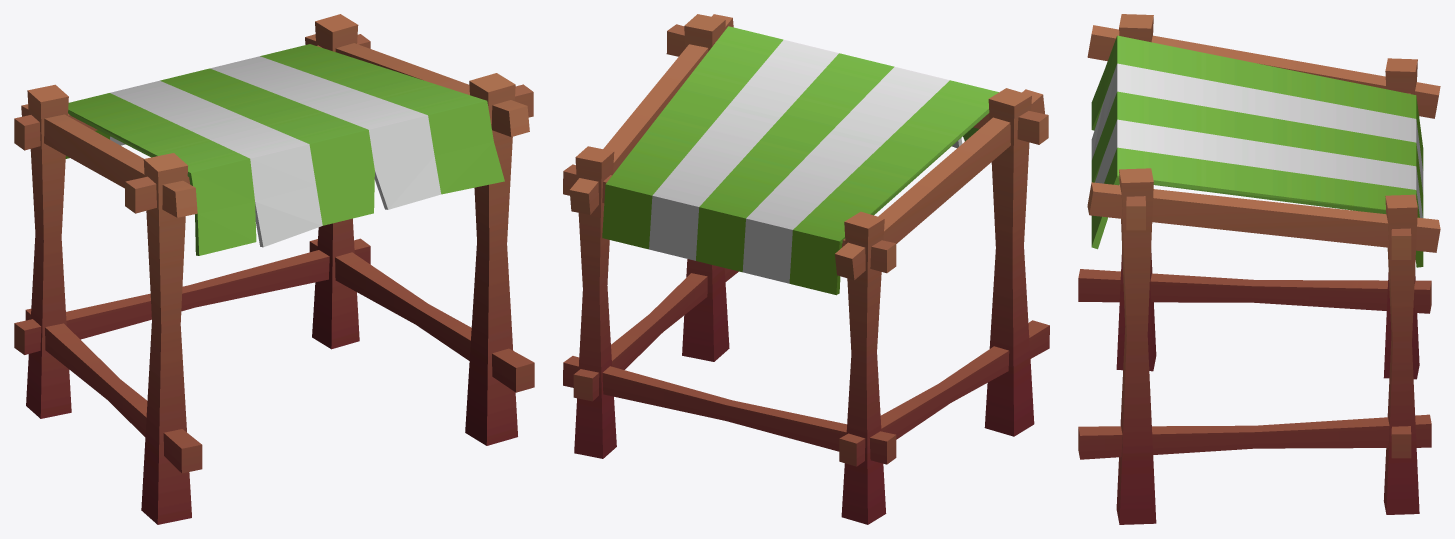
Rendered from tent_2.glb.
The picture shows the model from 3 angles, left to right: view 1: azimuth 30°, elevation 25°; view 2: azimuth 150°, elevation 25°; view 3: azimuth 270°, elevation 25°; orthographic projection. The views are drawn at different scales.
Visible parts, largest first — view 1: tent_2; view 2: tent_2; view 3: tent_2.
Boxes of the visible parts, x1=… form: tent_2: x1=14, y1=14, x2=534, y2=524; tent_2: x1=563, y1=14, x2=1049, y2=524; tent_2: x1=1078, y1=14, x2=1440, y2=524.
Bounding box in the file's own units: 1.44 × 1.21 × 1.17.
Materials: 1 (1 with a texture image).
